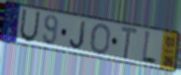9: (41, 15, 59, 47)
J: (68, 20, 86, 51)
L: (141, 29, 157, 67)
O: (89, 22, 112, 57)
T: (120, 24, 140, 61)
U: (19, 8, 42, 44)
